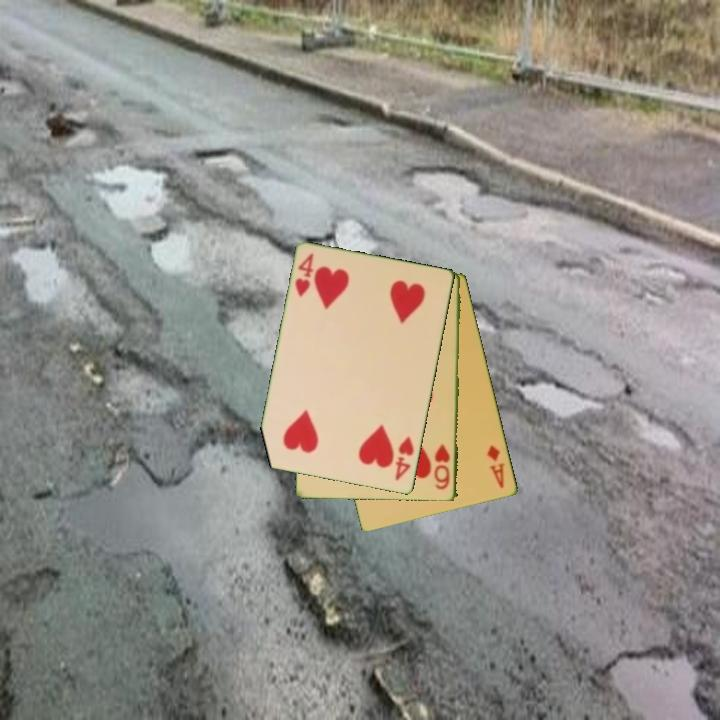4h: (392, 433, 417, 484), (292, 250, 317, 300)
6h: (431, 441, 453, 492)
Ad: (483, 442, 508, 491)
